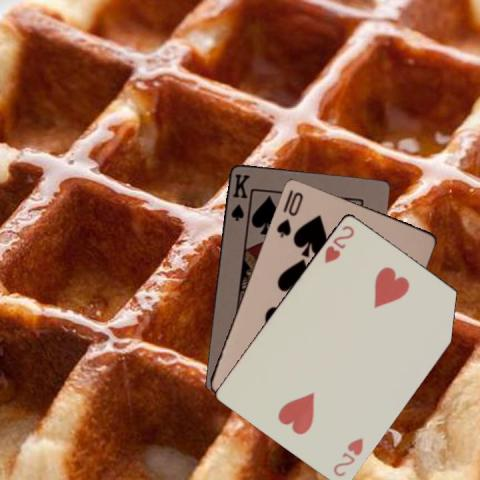10s: (273, 189, 305, 238)
2h: (330, 433, 365, 478), (321, 222, 356, 265)
Ks: (228, 170, 252, 222)
